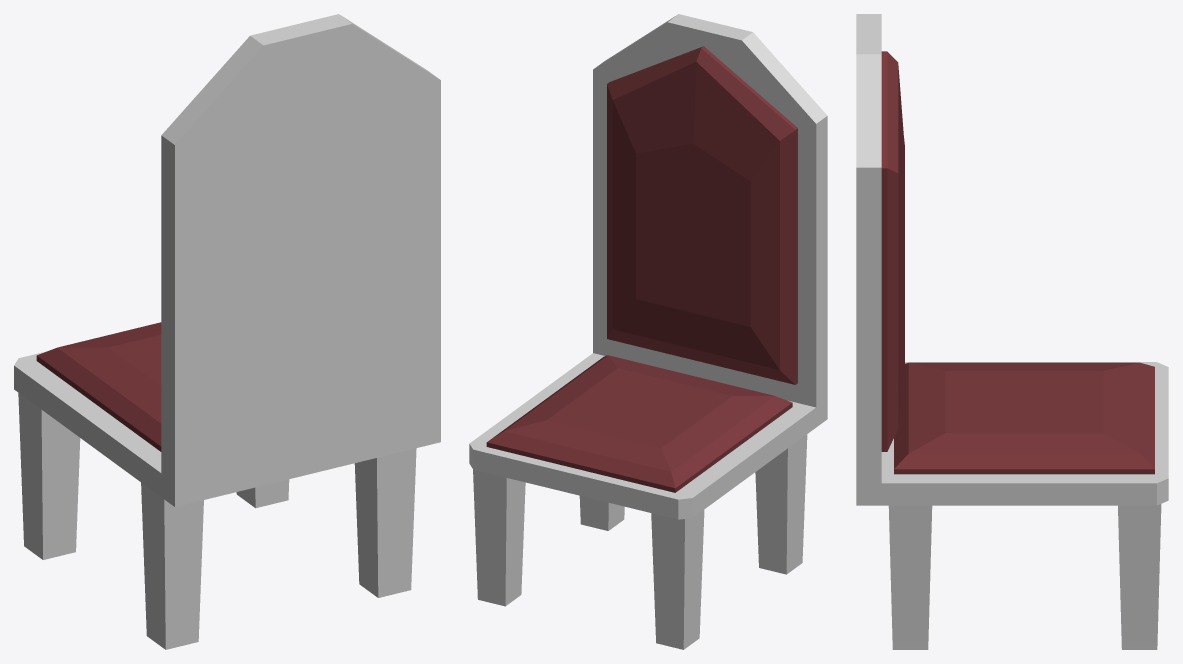
The model's file is Chair.fbx.
3 renders of one model, left to right at view 1: azimuth 30°, elevation 25°; view 2: azimuth 150°, elevation 25°; view 3: azimuth 270°, elevation 25°, orthographic. The views are drawn at different scales.
Visible parts, largest first — view 1: Chair; view 2: Chair; view 3: Chair.
Boxes of the visible parts, bbox=[...] form: Chair: bbox=[14, 14, 440, 649]; Chair: bbox=[469, 14, 827, 649]; Chair: bbox=[856, 14, 1168, 649].
Size of the model in its own units: 87.57 by 189 by 95.24.
